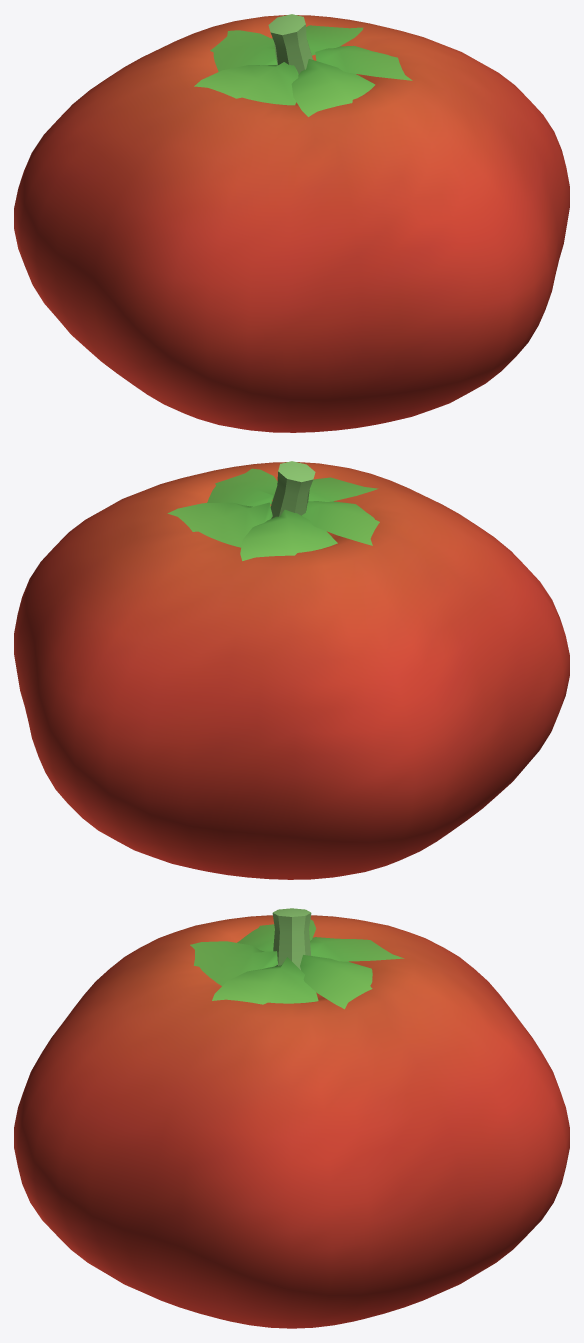
File: kr_tomato.glb
The picture shows the model from 3 angles, top to bottom: view 1: azimuth 30°, elevation 25°; view 2: azimuth 150°, elevation 25°; view 3: azimuth 270°, elevation 25°; orthographic projection.
Visible parts, largest first — view 1: vc_m0_r2, vc_m0_r4, vc_m0_r6; view 2: vc_m0_r2, vc_m0_r4, vc_m0_r6; view 3: vc_m0_r2, vc_m0_r4, vc_m0_r6.
Boxes of the visible parts, left/top/right/bottom form: vc_m0_r2: left=14, top=15, right=569, bottom=432; vc_m0_r4: left=194, top=25, right=412, bottom=116; vc_m0_r6: left=268, top=14, right=312, bottom=102; vc_m0_r2: left=14, top=462, right=569, bottom=879; vc_m0_r4: left=167, top=468, right=379, bottom=560; vc_m0_r6: left=270, top=461, right=315, bottom=518; vc_m0_r2: left=14, top=915, right=569, bottom=1328; vc_m0_r4: left=190, top=919, right=404, bottom=1009; vc_m0_r6: left=272, top=908, right=311, bottom=969.
Size of the model in its own units: 0.2239 by 0.1669 by 0.2286.
